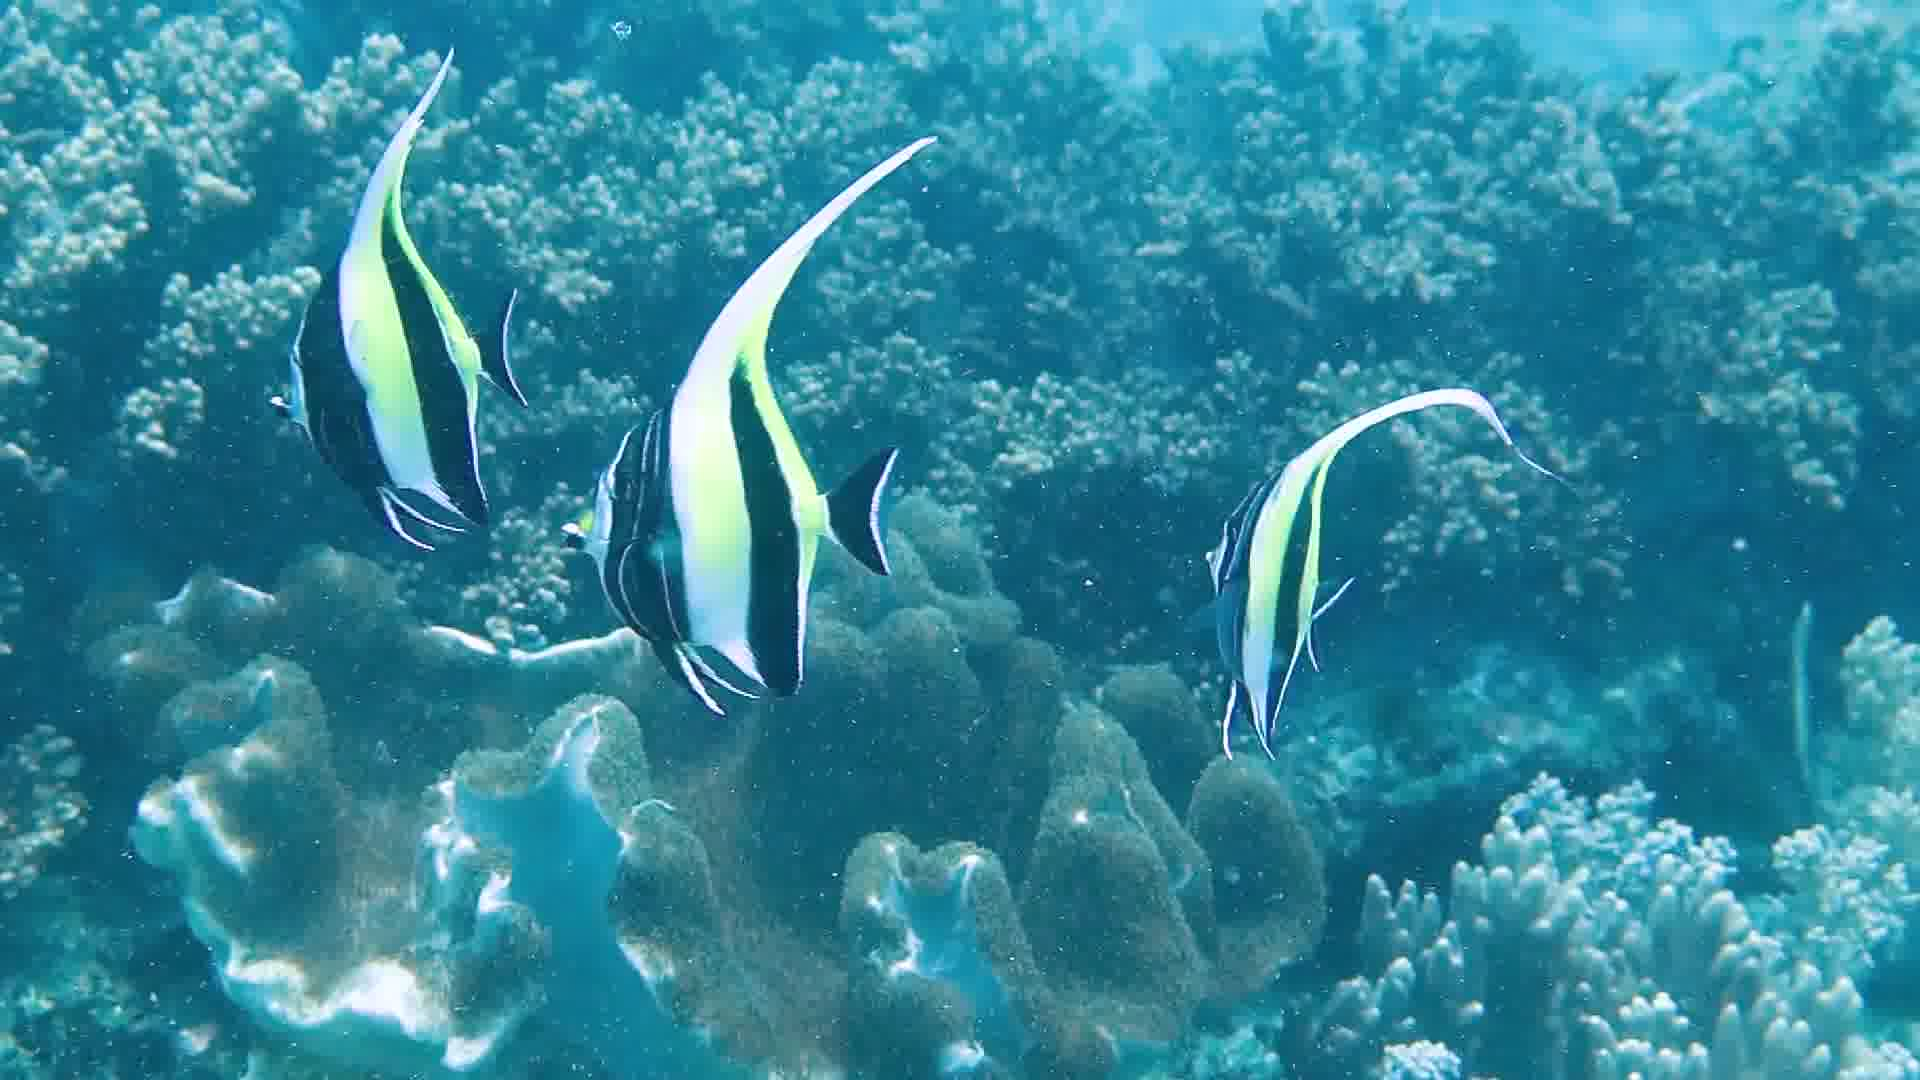Zanclus cornutus: (593, 320, 910, 699), (219, 135, 516, 529), (1146, 434, 1404, 803)
